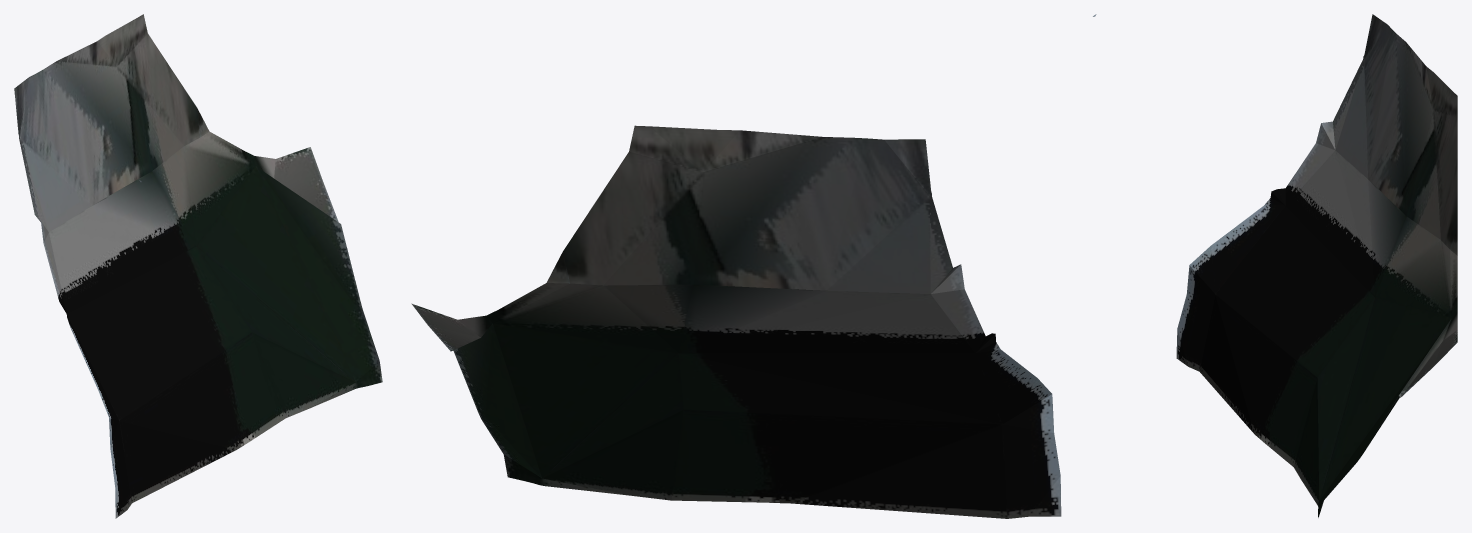
3 renders of one model, left to right at view 1: azimuth 30°, elevation 25°; view 2: azimuth 150°, elevation 25°; view 3: azimuth 270°, elevation 25°, orthographic. The views are drawn at different scales.
Bounding box in the file's own units: 1.67 × 1.67 × 1.47.
Materials: 3 (3 with a texture image).
